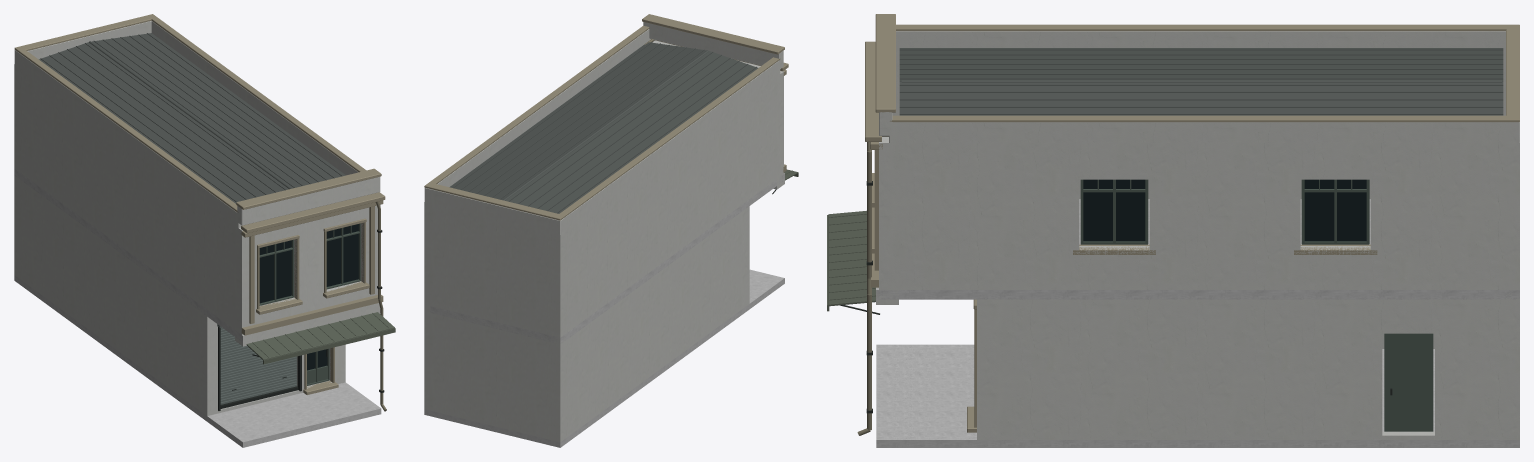
Rendered from five-foot-way-shophouse-module.glb.
The picture shows the model from 3 angles, left to right: view 1: azimuth 30°, elevation 25°; view 2: azimuth 150°, elevation 25°; view 3: azimuth 270°, elevation 25°; orthographic projection. The views are drawn at different scales.
Visible parts, largest first — view 1: Shophouse_near_plaster, Shophouse_near_metal, Shophouse_near_matte, Shophouse_near_concrete, Shophouse_near_glazing; view 2: Shophouse_near_plaster, Shophouse_near_metal, Shophouse_near_matte, Shophouse_near_concrete; view 3: Shophouse_near_plaster, Shophouse_near_metal, Shophouse_near_matte, Shophouse_near_concrete, Shophouse_near_glazing.
Boxes of the visible parts, x1=… form: Shophouse_near_plaster: x1=14, y1=21, x2=380, y2=415; Shophouse_near_metal: x1=39, y1=33, x2=395, y2=410; Shophouse_near_matte: x1=14, y1=14, x2=386, y2=411; Shophouse_near_concrete: x1=14, y1=169, x2=381, y2=447; Shophouse_near_glazing: x1=259, y1=224, x2=358, y2=370; Shophouse_near_plaster: x1=424, y1=22, x2=784, y2=442; Shophouse_near_metal: x1=449, y1=42, x2=798, y2=213; Shophouse_near_matte: x1=424, y1=14, x2=788, y2=220; Shophouse_near_concrete: x1=424, y1=173, x2=784, y2=447; Shophouse_near_plaster: x1=876, y1=31, x2=1519, y2=439; Shophouse_near_metal: x1=827, y1=48, x2=1503, y2=413; Shophouse_near_matte: x1=857, y1=14, x2=1519, y2=435; Shophouse_near_concrete: x1=876, y1=199, x2=1519, y2=447; Shophouse_near_glazing: x1=1083, y1=179, x2=1366, y2=241.
Bounding box in the file's own units: 5.6 × 9.3 × 17.23.
Materials: 5 (2 with a texture image).
